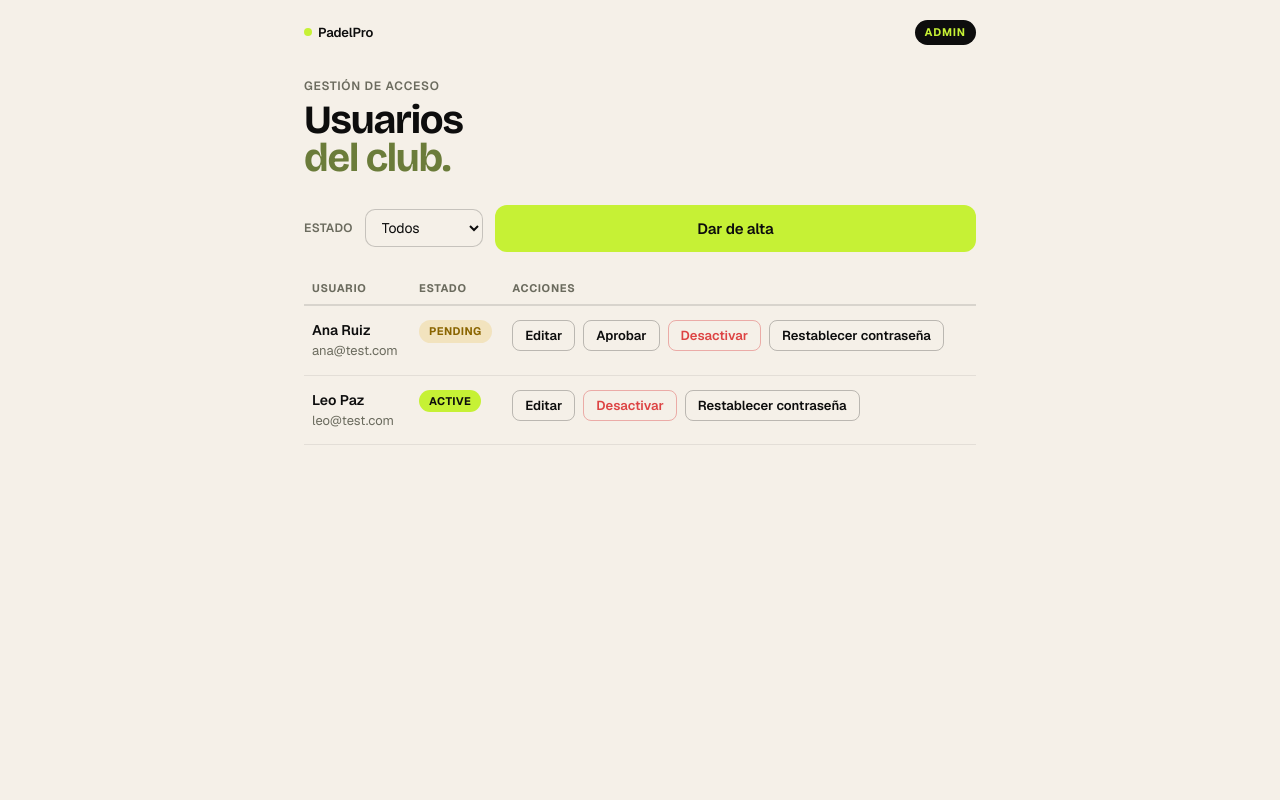
Test: AdminUsuariosPage — alta de usuario (3.2/3.3) › 3.3 — shows a conflict error when the email is duplicated (409)
Check: the text "ana@test.com" is shown, box left=312, top=341, right=403, bottom=360
Click the button "Dar de alta": click(735, 228) left=495, top=204, right=976, bottom=252
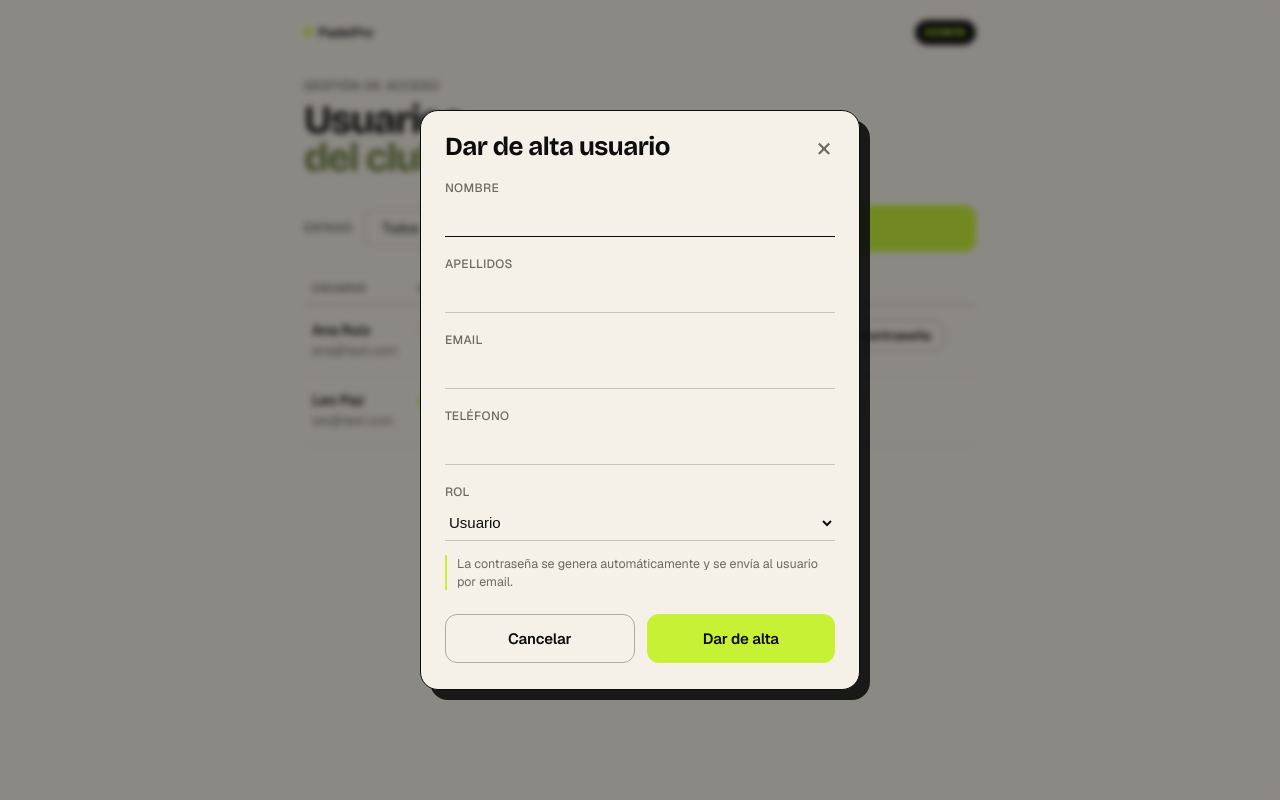
In the field labelled "Nombre": (640, 219) left=445, top=201, right=835, bottom=237, type "Dup"
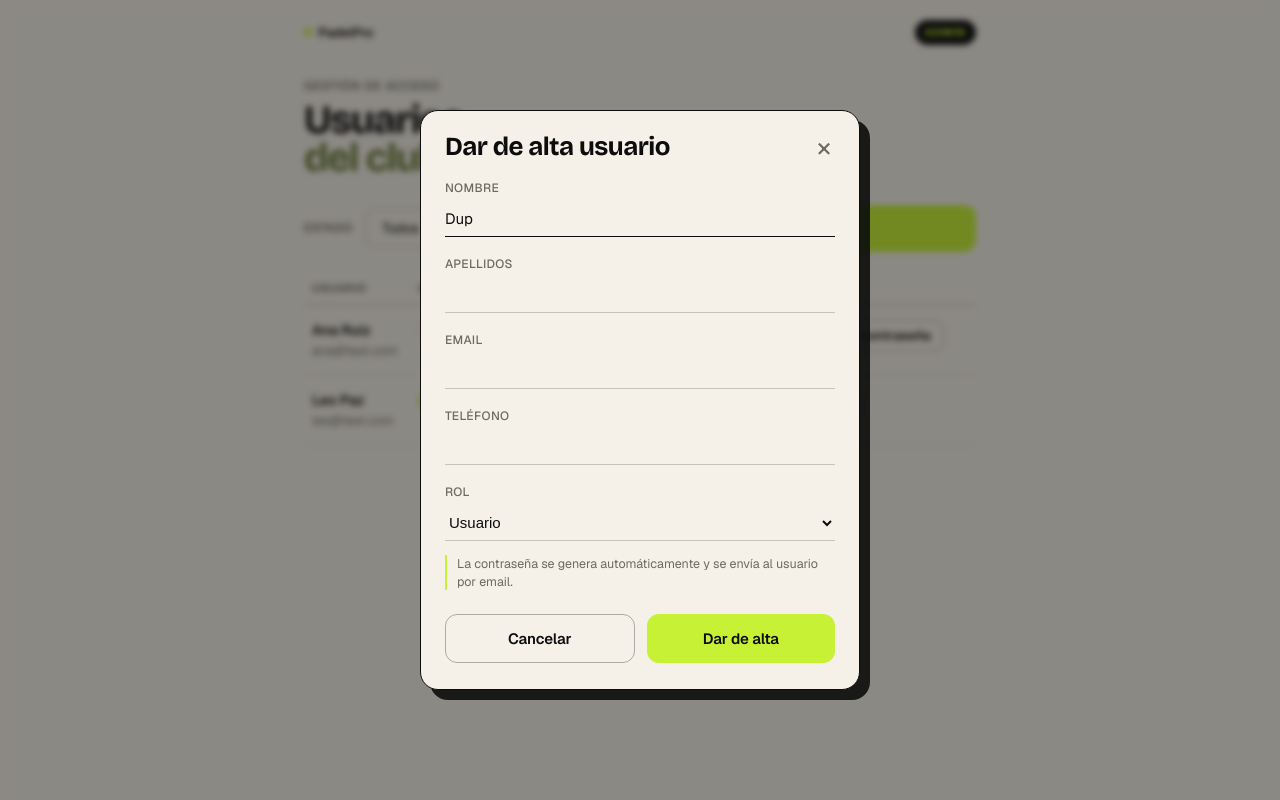
In the field named "apellidos?": (640, 295) left=445, top=277, right=835, bottom=313, type "Licado"
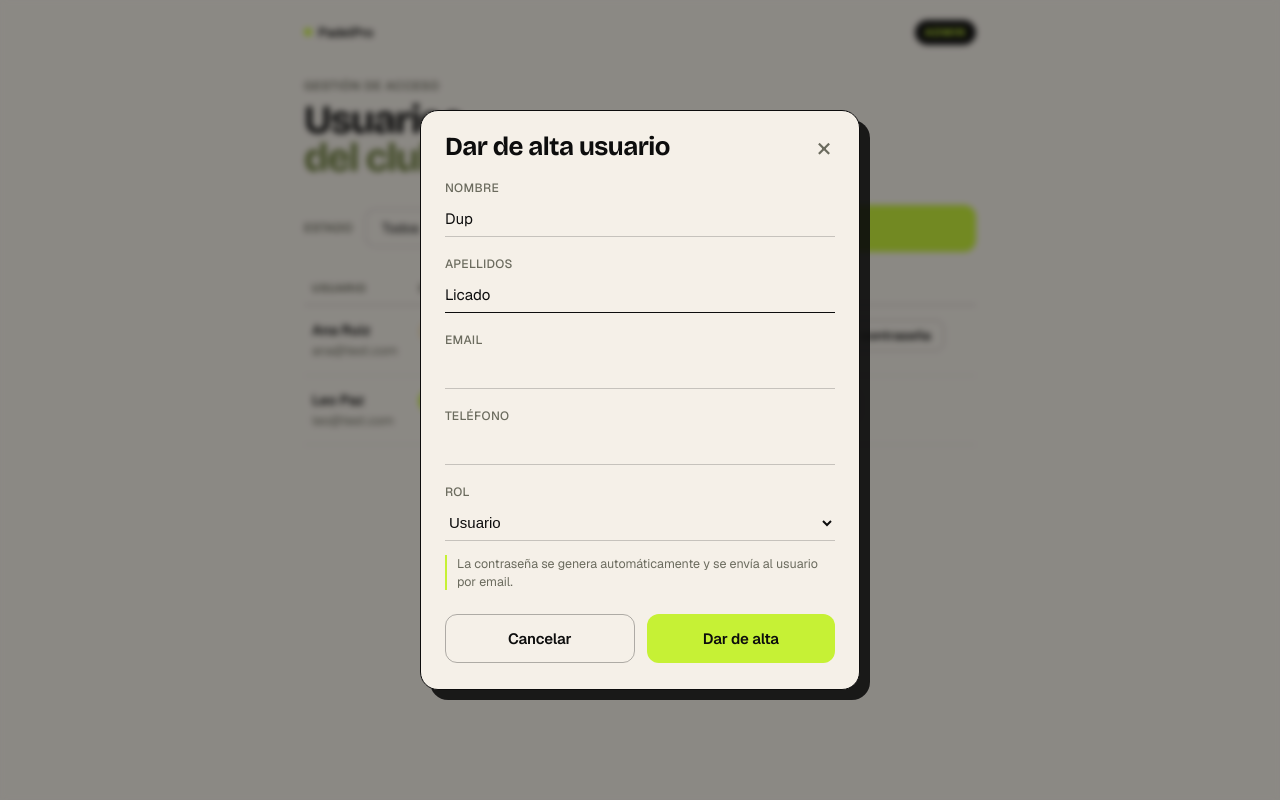
In the field labelled "Email": (640, 371) left=445, top=353, right=835, bottom=389, type "ana@test.com"
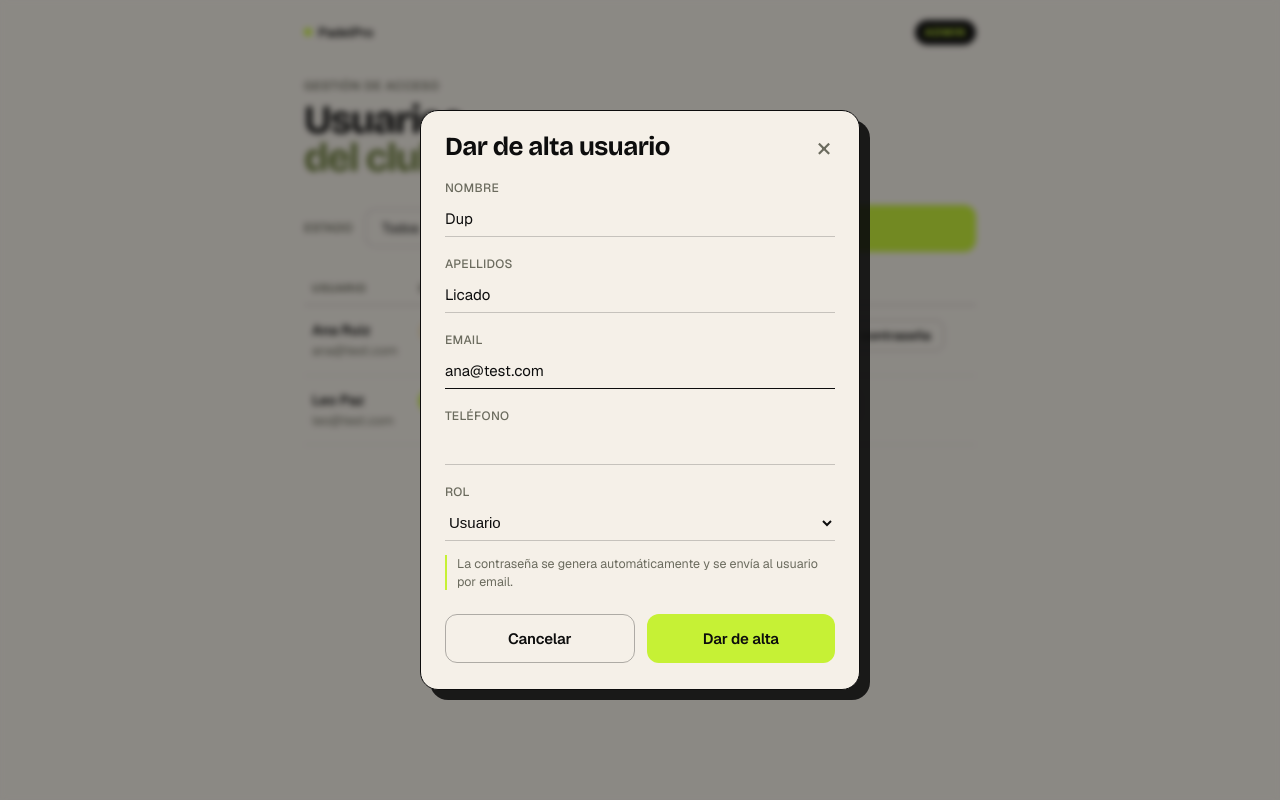
Click the button "Dar de alta": click(741, 638) left=647, top=614, right=835, bottom=663
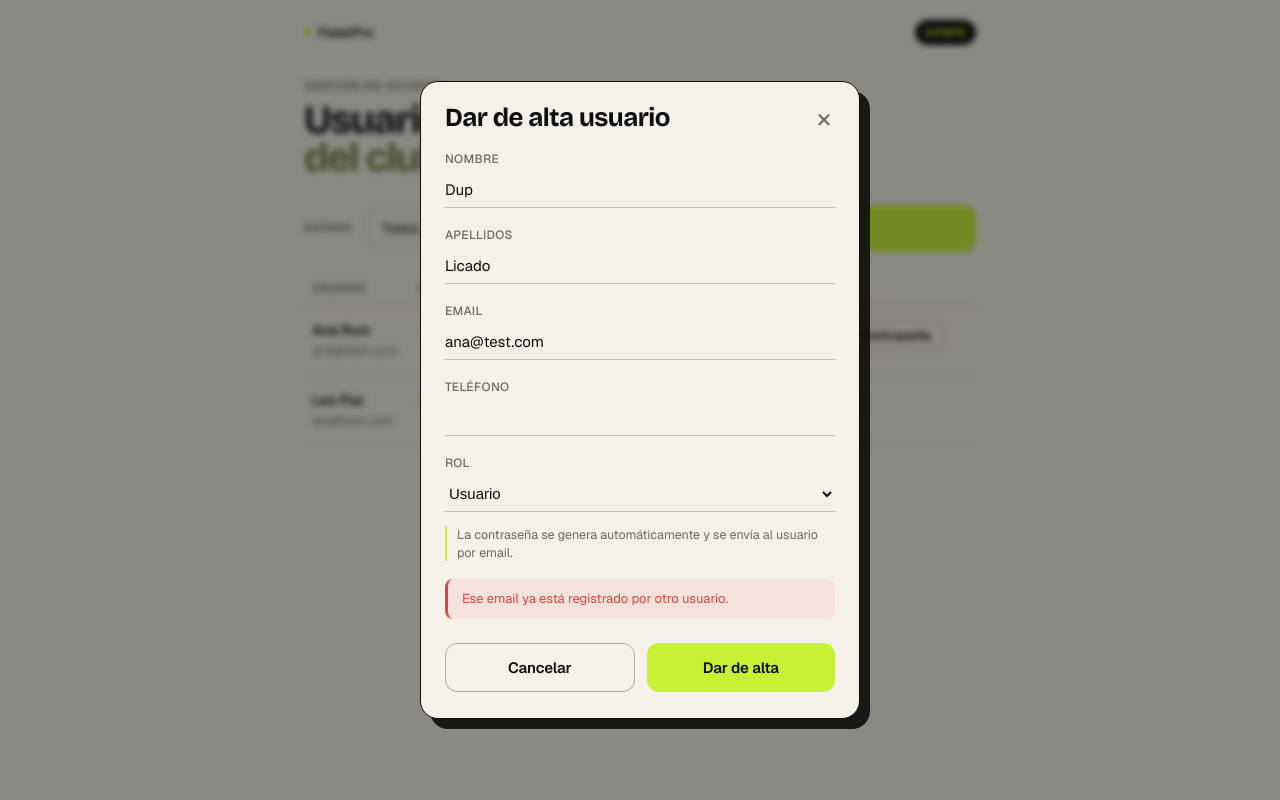
Check: the text "Ese email ya está registrado por otro usuario." is shown, box left=445, top=579, right=835, bottom=619
